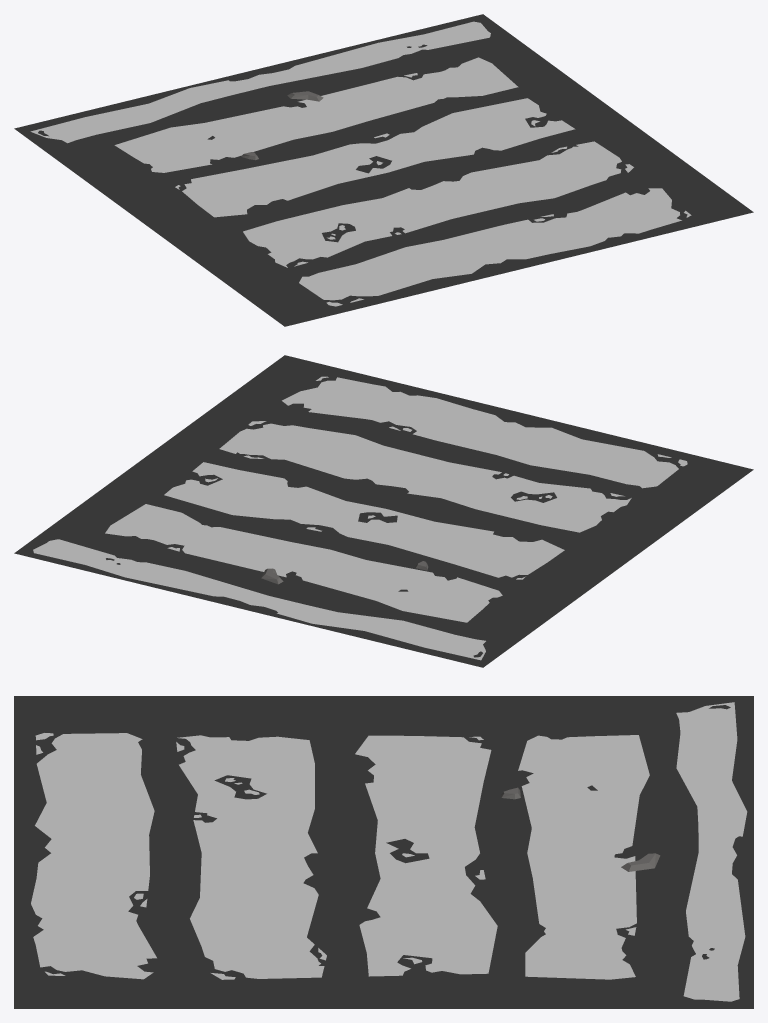
Rendered from Asphalt_06.FBX.
3 views of the same model, one above another, from view 1: azimuth 30°, elevation 25°; view 2: azimuth 150°, elevation 25°; view 3: azimuth 270°, elevation 25° (orthographic). The views are drawn at different scales.
Parts seen in each view (by area): view 1: Asphalt_06; view 2: Asphalt_06; view 3: Asphalt_06.
Part boxes in pixels (x1,y1,x2,y2): Asphalt_06: [14, 14, 753, 326]; Asphalt_06: [14, 355, 753, 667]; Asphalt_06: [14, 696, 753, 1008].
Bounding box in the file's own units: 5 × 0.03 × 5.
